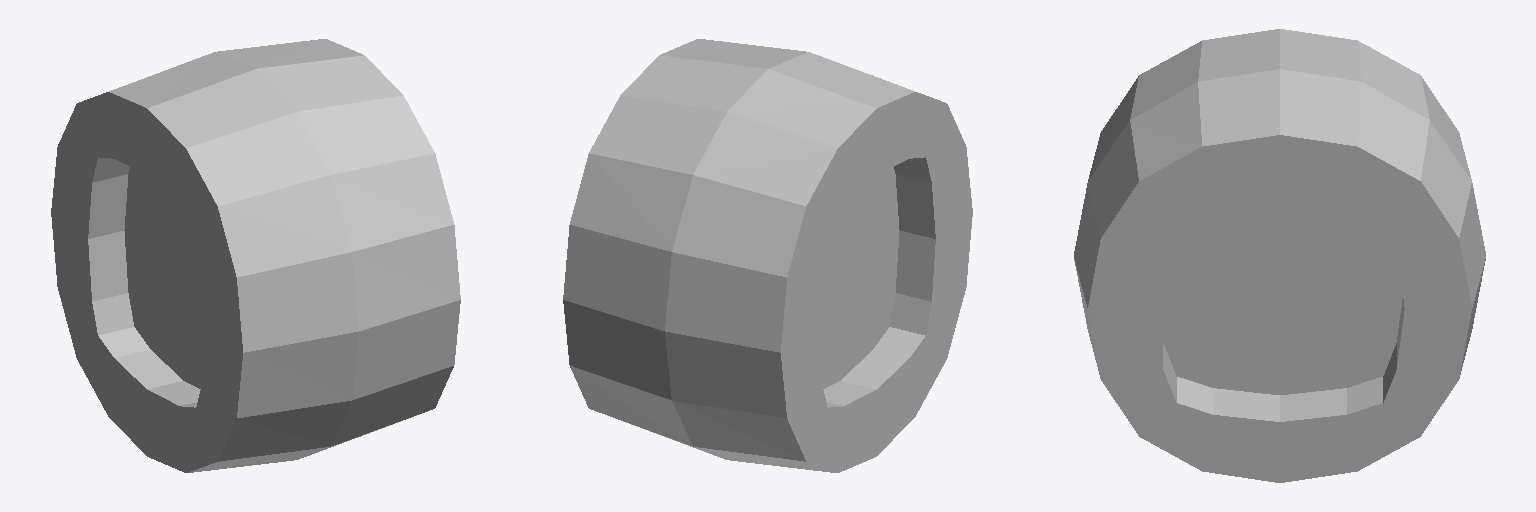
Rendered from Wheels.obj.
3 views of the same model, side by side, from view 1: azimuth 30°, elevation 25°; view 2: azimuth 150°, elevation 25°; view 3: azimuth 270°, elevation 25° (orthographic).
Visible parts, largest first — view 1: Cube; view 2: Cube; view 3: Cube.
Part boxes in pixels (bbox=[...]): Cube: bbox=[51, 39, 460, 472]; Cube: bbox=[563, 39, 972, 472]; Cube: bbox=[1074, 29, 1485, 482].
Size of the model in its own units: 1.02 by 1.68 by 1.68.